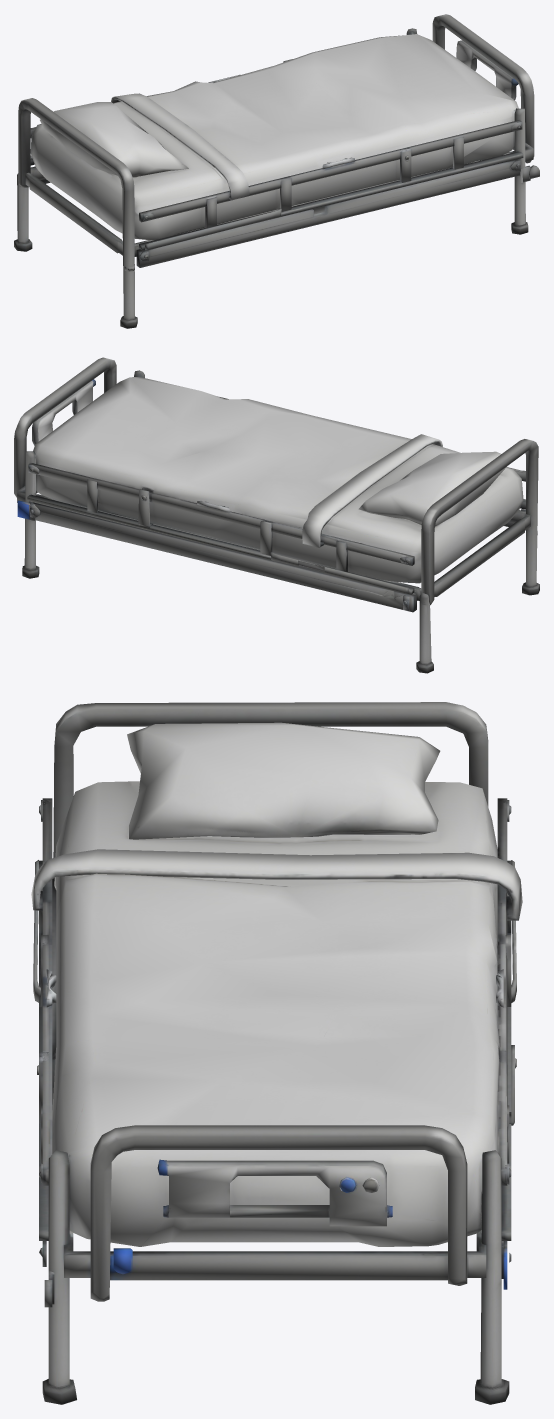
The model's file is small_bed.glb.
The picture shows the model from 3 angles, top to bottom: view 1: azimuth 30°, elevation 25°; view 2: azimuth 150°, elevation 25°; view 3: azimuth 270°, elevation 25°; orthographic projection. The views are drawn at different scales.
Parts seen in each view (by area): view 1: tripo_node_80d850b3-d929-47a2-ad95-d21122e81d15; view 2: tripo_node_80d850b3-d929-47a2-ad95-d21122e81d15; view 3: tripo_node_80d850b3-d929-47a2-ad95-d21122e81d15.
Boxes of the visible parts, left/top/right/bottom form: tripo_node_80d850b3-d929-47a2-ad95-d21122e81d15: left=14, top=14, right=539, bottom=328; tripo_node_80d850b3-d929-47a2-ad95-d21122e81d15: left=14, top=357, right=539, bottom=673; tripo_node_80d850b3-d929-47a2-ad95-d21122e81d15: left=31, top=702, right=522, bottom=1404.
Size of the model in its own units: 1.86 by 0.65 by 0.9332.
Materials: 1 (1 with a texture image).
